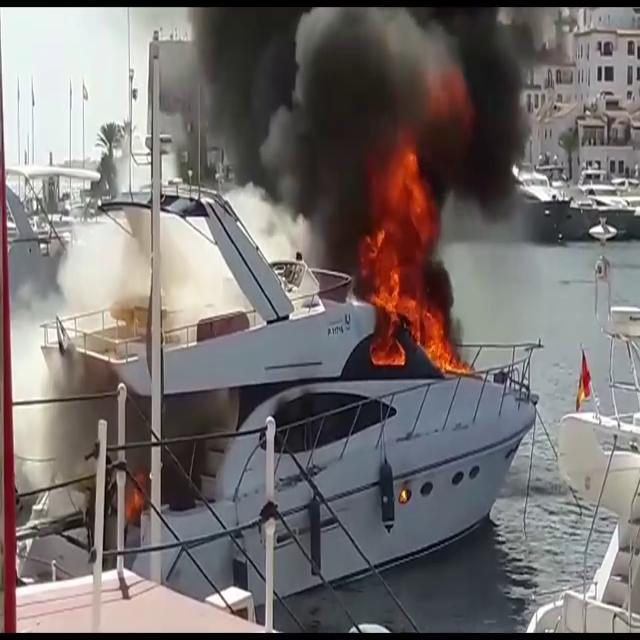Fire: (358, 146, 465, 374)
Smoke: (167, 1, 546, 228), (14, 206, 134, 505)
